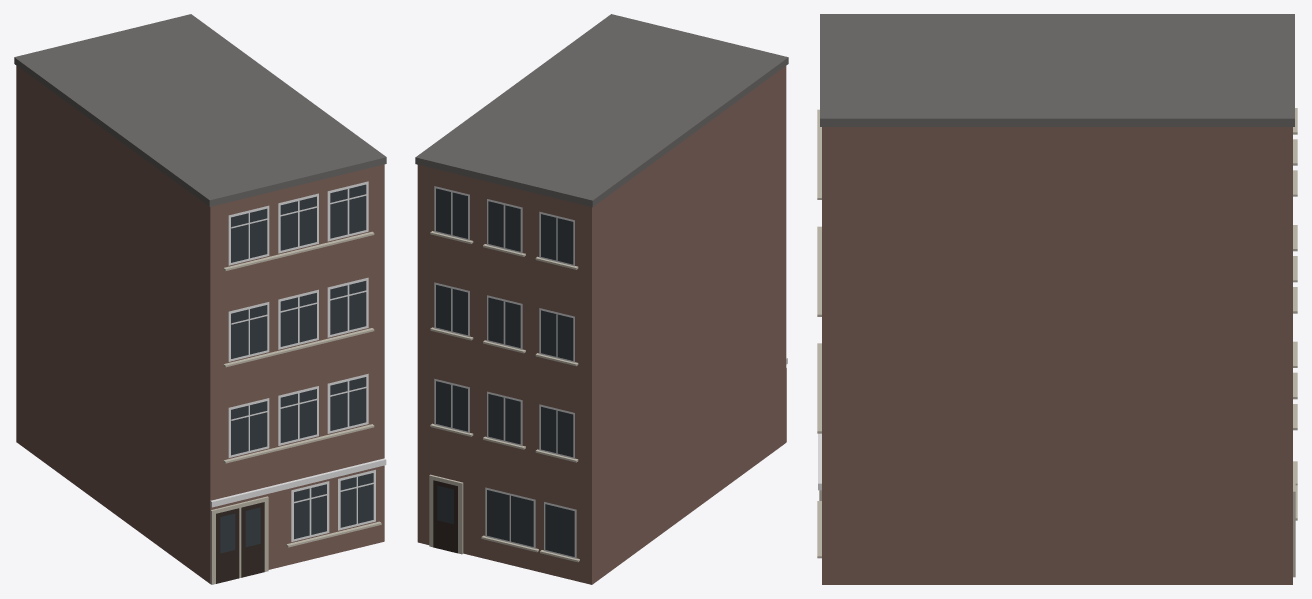
File: we-or-three__franklin__4__flat__long__solid.glb
3 views of the same model, side by side, from view 1: azimuth 30°, elevation 25°; view 2: azimuth 150°, elevation 25°; view 3: azimuth 270°, elevation 25° (orthographic). The views are drawn at different scales.
Visible parts, largest first — view 1: we-or-three__franklin__4__flat__long__solid; view 2: we-or-three__franklin__4__flat__long__solid; view 3: we-or-three__franklin__4__flat__long__solid.
Part boxes in pixels (x1,y1,x2,y2): we-or-three__franklin__4__flat__long__solid: [14, 14, 386, 584]; we-or-three__franklin__4__flat__long__solid: [415, 14, 788, 584]; we-or-three__franklin__4__flat__long__solid: [817, 14, 1297, 584].
Bounding box in the file's own units: 6.07 × 12.6 × 11.75.
